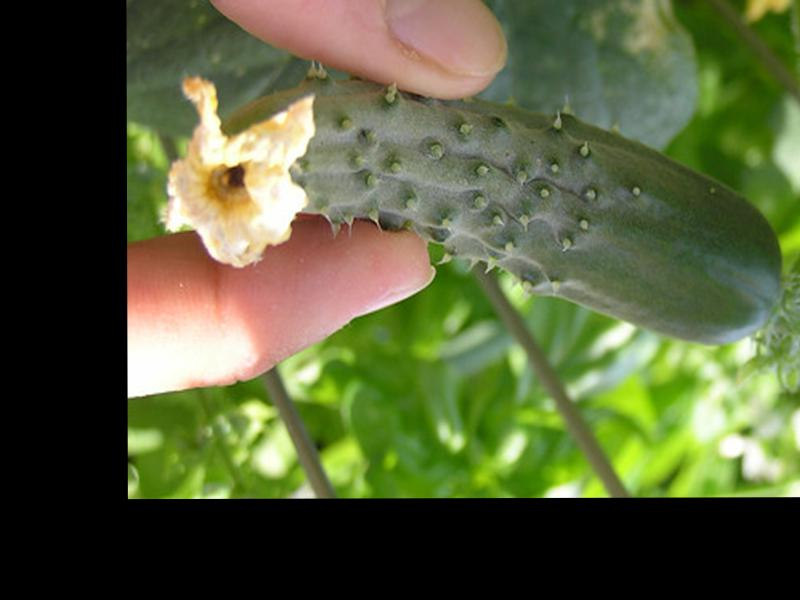Cucumber: (165, 75, 785, 343)
